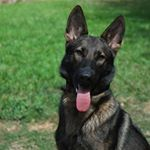puppy: (52, 4, 147, 149)
